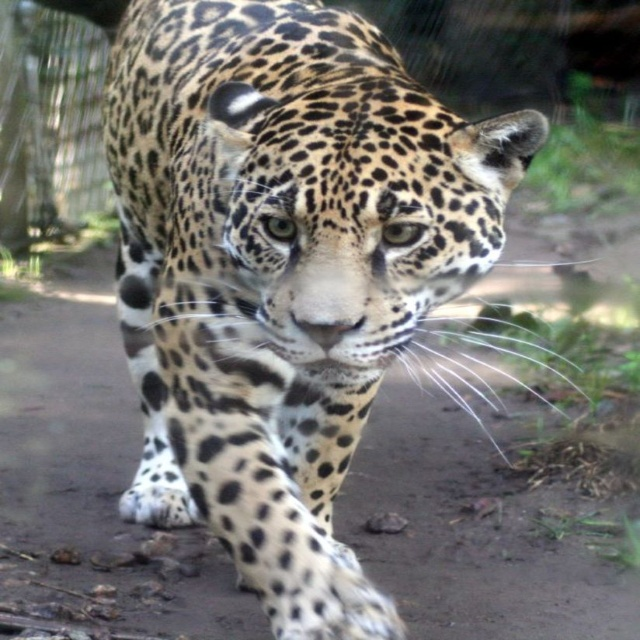Jaguar: (102, 0, 606, 639)
